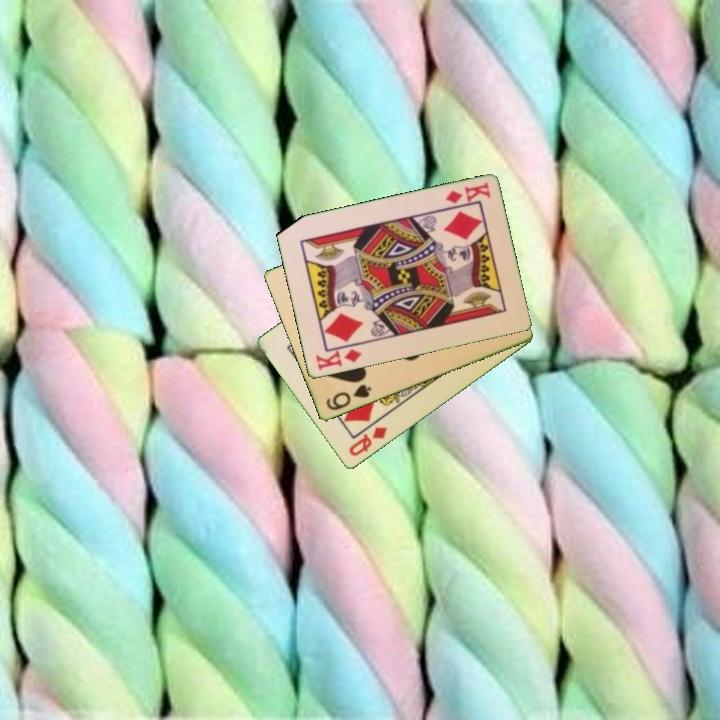6s: (322, 381, 374, 414)
Kd: (312, 341, 365, 374), (441, 179, 493, 206)
Qd: (345, 423, 390, 460)
